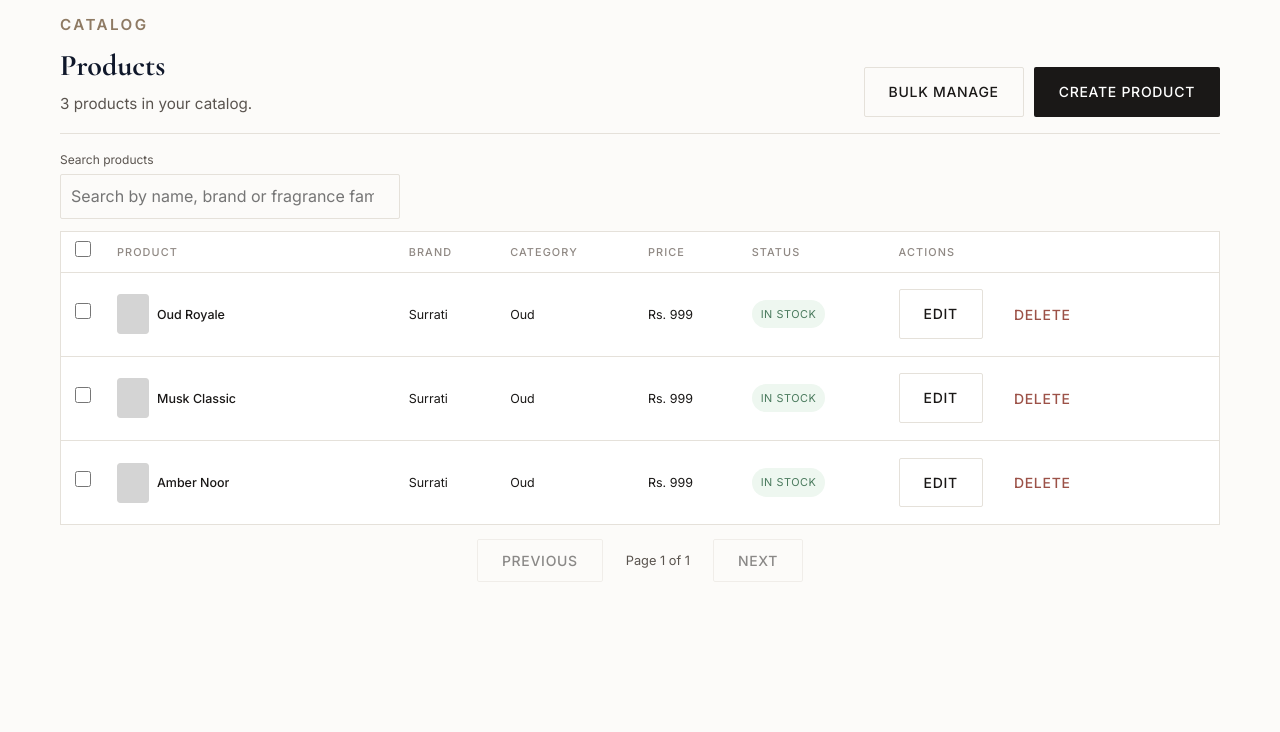
Scenario: Products admin page — bulk selection › marks select-all as indeterminate when only some rows are selected
The width and height of the screenshot is (1280, 732).
Expected: the text "Oud Royale" is shown, [157,304,225,325]
Click the checkbox named "Select Oud Royale": (83, 311) [75,303,91,319]
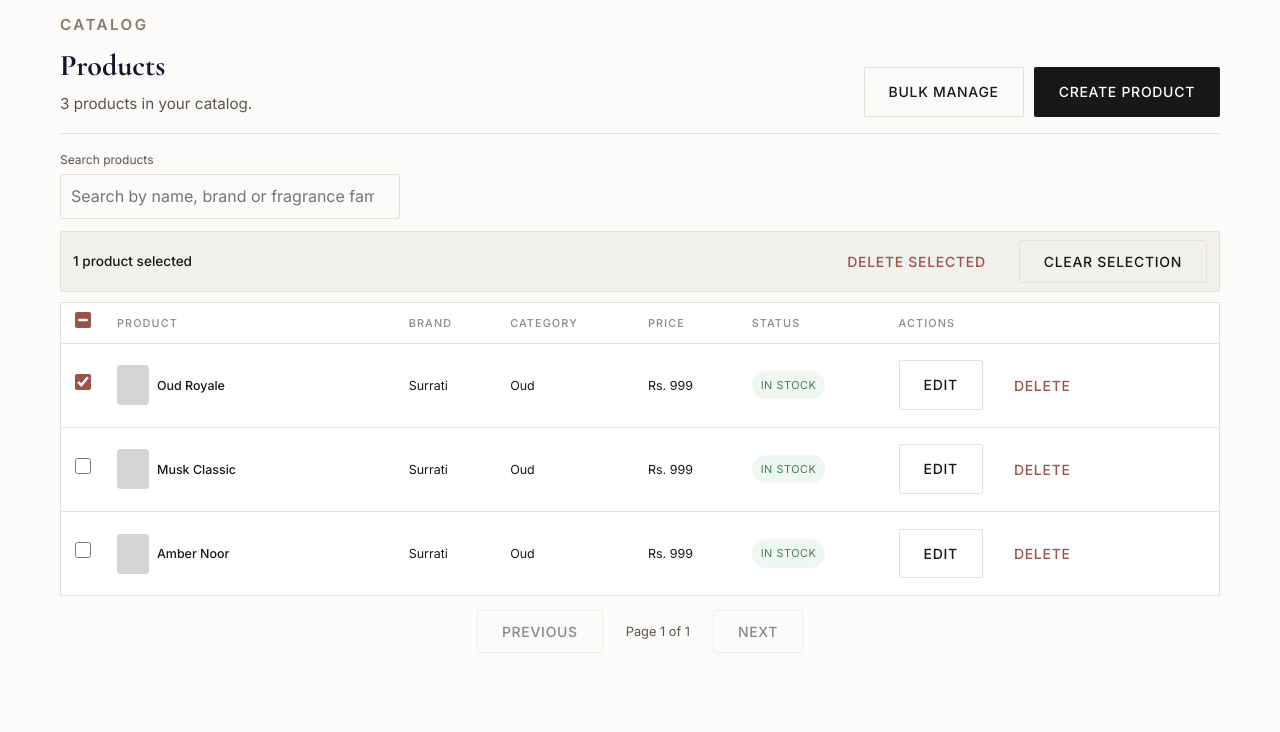
Result: the text "1 product selected" is shown at [73,250,192,273]
Click the checkbox named "Select all products on this page": (83, 320) [75,312,91,328]
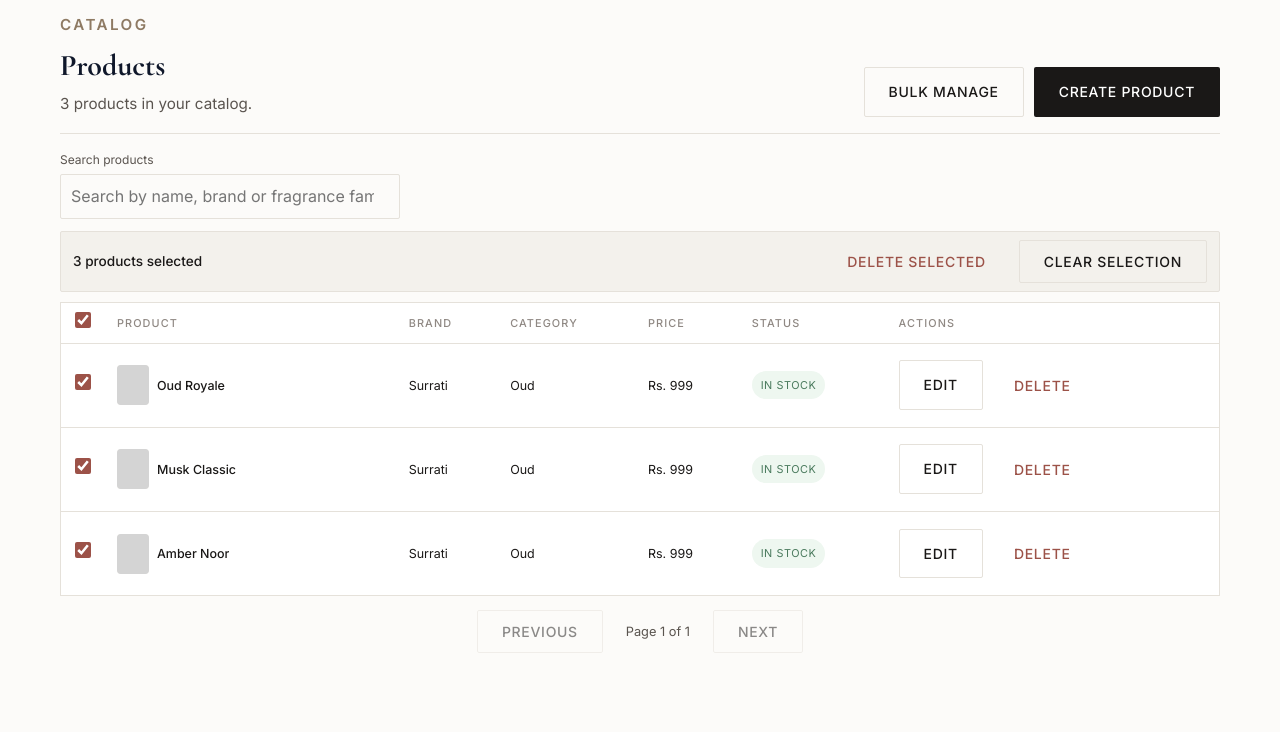
Result: the checkbox named "Select all products on this page" is checked at [75,312,91,328]
Result: the text "3 products selected" is shown at [73,250,202,273]
